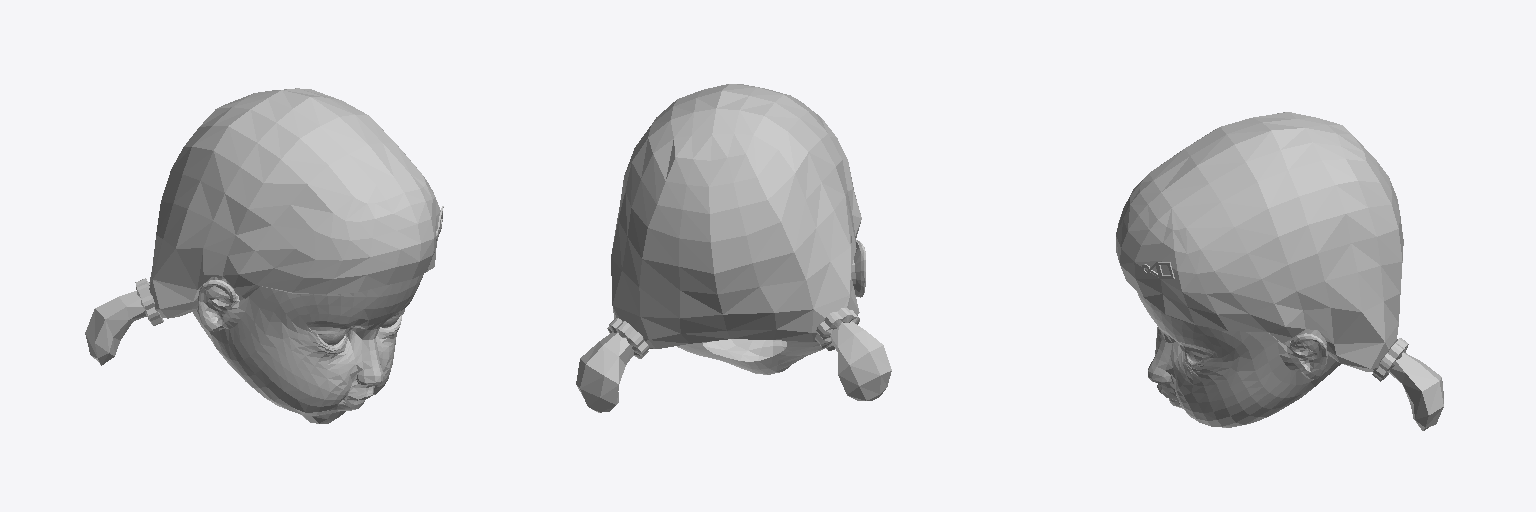
File: Doll_Head.obj
3 views of the same model, side by side, from view 1: azimuth 30°, elevation 25°; view 2: azimuth 150°, elevation 25°; view 3: azimuth 270°, elevation 25° (orthographic).
Parts seen in each view (by area): view 1: MainHair.001_Plane.011, Face.001_Plane.018, HairTale.001_Cone.003, ruber.001_Cone.004; view 2: MainHair.001_Plane.011, HairTale.001_Cone.003, Face.001_Plane.018, ruber.001_Cone.004; view 3: MainHair.001_Plane.011, Face.001_Plane.018, HairTale.001_Cone.003, ruber.001_Cone.004.
Boxes of the visible parts, x1=… form: MainHair.001_Plane.011: x1=149, y1=88, x2=441, y2=318; Face.001_Plane.018: x1=193, y1=274, x2=423, y2=423; HairTale.001_Cone.003: x1=85, y1=291, x2=146, y2=365; ruber.001_Cone.004: x1=135, y1=278, x2=163, y2=325; MainHair.001_Plane.011: x1=611, y1=84, x2=861, y2=348; HairTale.001_Cone.003: x1=576, y1=321, x2=891, y2=412; Face.001_Plane.018: x1=677, y1=240, x2=865, y2=374; ruber.001_Cone.004: x1=607, y1=308, x2=859, y2=358; MainHair.001_Plane.011: x1=1116, y1=112, x2=1403, y2=371; Face.001_Plane.018: x1=1136, y1=290, x2=1340, y2=427; HairTale.001_Cone.003: x1=1389, y1=352, x2=1443, y2=430; ruber.001_Cone.004: x1=1372, y1=338, x2=1408, y2=381.
Bounding box in the file's own units: 2.31 × 2.33 × 2.31.